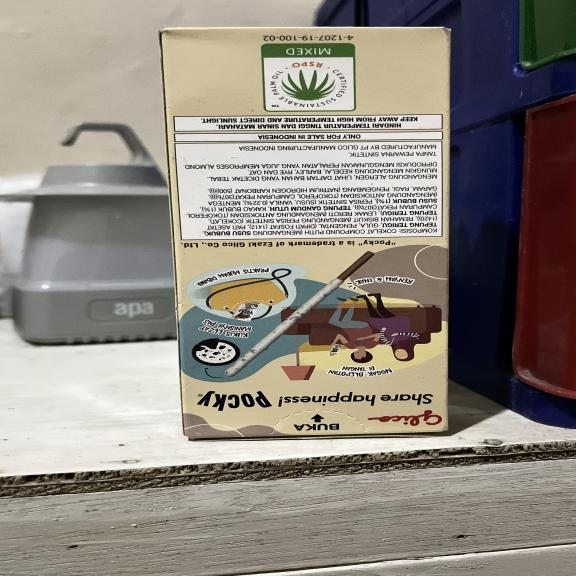Kertas: (163, 26, 457, 440)
